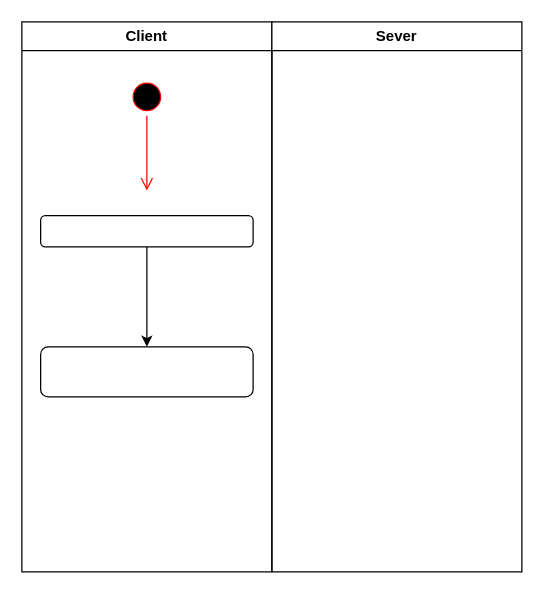
The diagram is 544 pixels wide and 594 high, and some of its shapes have lost their labels. Here are the shapes that lost their labels. From the top down, the centre of each, then its label:
the point at 146,230: ผู้ใช้เปิดแอพลิเคชั่น
the point at 146,371: เลือกอุปกรณ์กล้องที่ต้องการใช้ (ค่าเริ่มต้น : กล้องของแล็ปท็อป)
